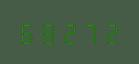eight: (38, 20, 57, 44)
seven: (78, 20, 97, 44)
six: (18, 20, 37, 44)
two: (58, 20, 77, 44), (98, 20, 117, 44)
